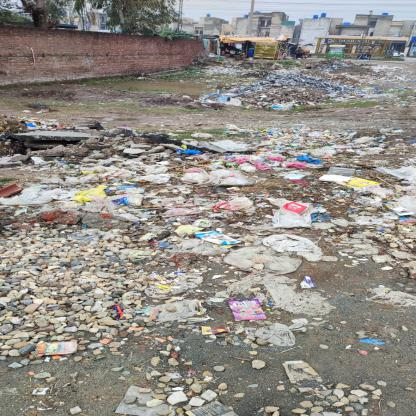Garbage: (20, 107, 406, 269), (207, 61, 404, 110)
